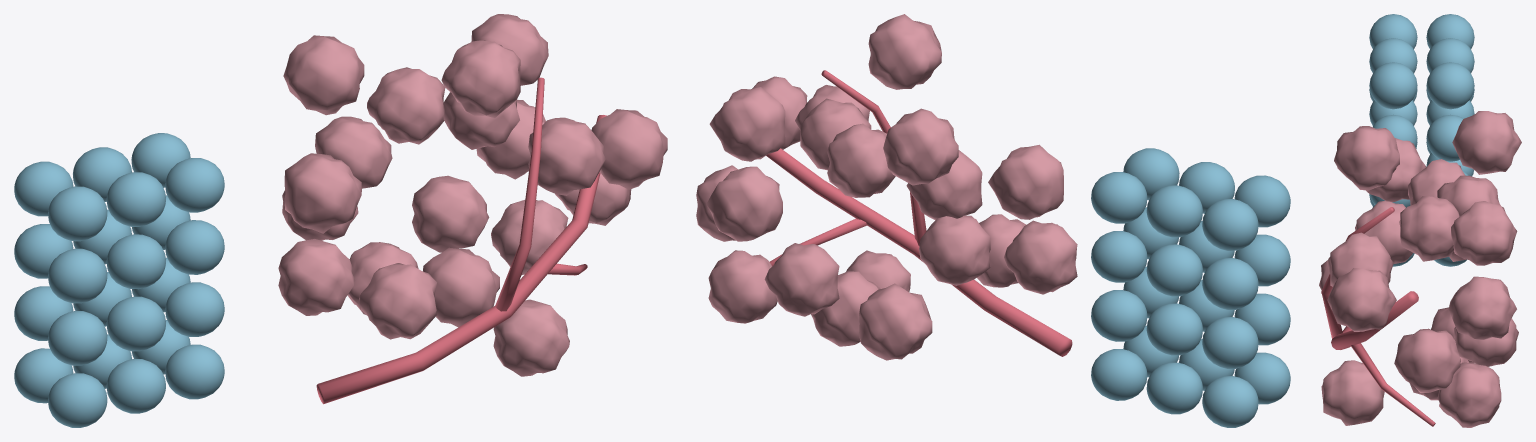
Rendered from tumor_microenv.glb.
3 views of the same model, side by side, from view 1: azimuth 30°, elevation 25°; view 2: azimuth 150°, elevation 25°; view 3: azimuth 270°, elevation 25° (orthographic). The views are drawn at different scales.
Visible parts, largest first — view 1: Tumor_Spheroid_Cluster, Healthy_Epithelium, Vessel_Branch; view 2: Tumor_Spheroid_Cluster, Healthy_Epithelium, Vessel_Branch; view 3: Tumor_Spheroid_Cluster, Healthy_Epithelium, Vessel_Branch.
Boxes of the visible parts, left/top/right/bottom form: Tumor_Spheroid_Cluster: left=278, top=14, right=667, bottom=376; Healthy_Epithelium: left=14, top=133, right=224, bottom=427; Vessel_Branch: left=316, top=77, right=606, bottom=404; Tumor_Spheroid_Cluster: left=696, top=14, right=1077, bottom=360; Healthy_Epithelium: left=1091, top=148, right=1290, bottom=427; Vessel_Branch: left=766, top=70, right=1072, bottom=356; Tumor_Spheroid_Cluster: left=1319, top=111, right=1521, bottom=427; Healthy_Epithelium: left=1369, top=14, right=1474, bottom=266; Vessel_Branch: left=1321, top=207, right=1435, bottom=426.
Bounding box in the file's own units: 14.05 × 7.48 × 4.91.
